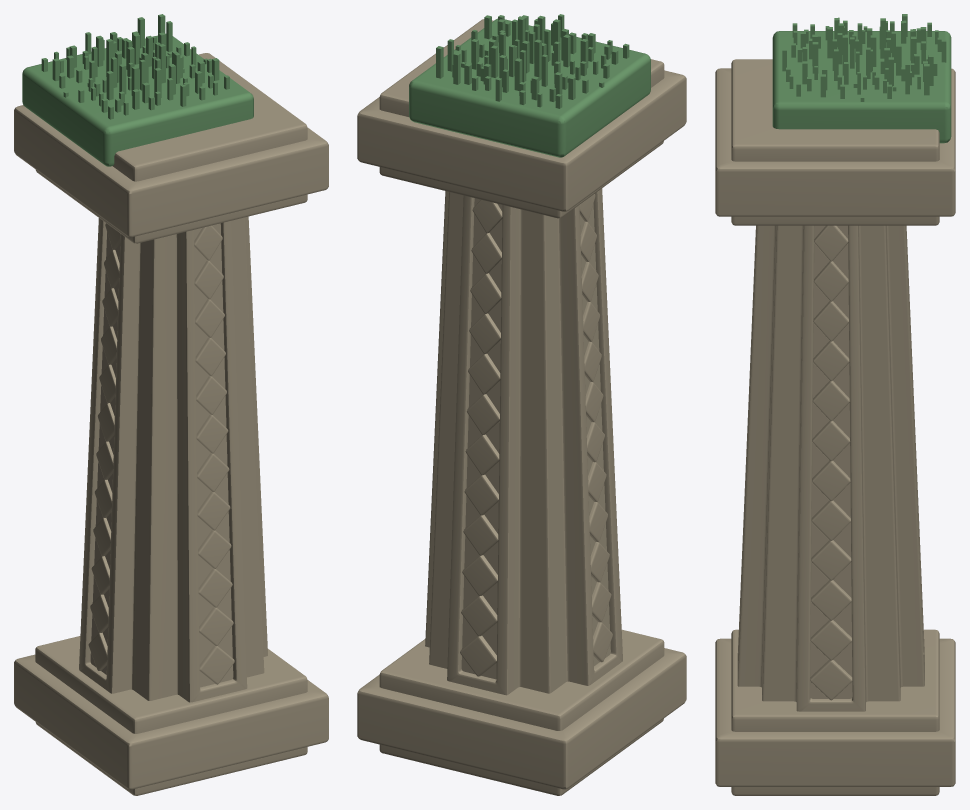
The model's file is TemplePillarC_002.fbx.
3 renders of one model, left to right at view 1: azimuth 30°, elevation 25°; view 2: azimuth 150°, elevation 25°; view 3: azimuth 270°, elevation 25°, orthographic. The views are drawn at different scales.
Visible parts, largest first — view 1: TemplePillarC_002; view 2: TemplePillarC_002; view 3: TemplePillarC_002.
Boxes of the visible parts, x1,y1,x2,y2 form: TemplePillarC_002: [14, 14, 328, 795]; TemplePillarC_002: [357, 14, 686, 795]; TemplePillarC_002: [715, 14, 955, 795].
Bounding box in the file's own units: 1.16 × 3.79 × 1.16.
